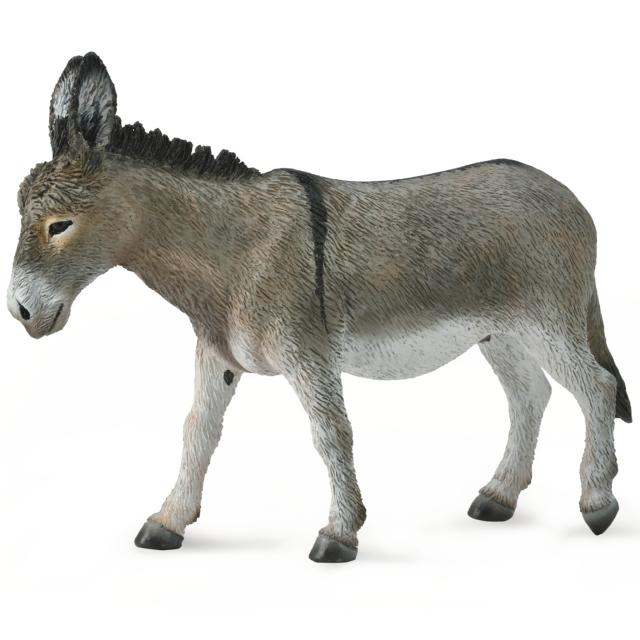Donkey: (9, 50, 620, 572)
